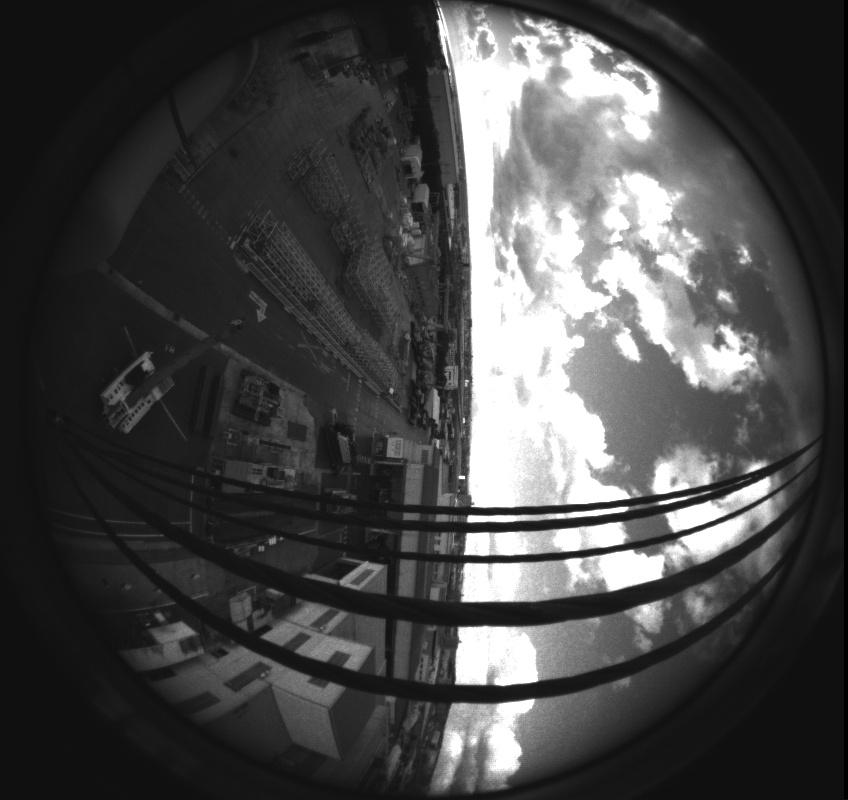rope: (22, 407, 829, 711)
